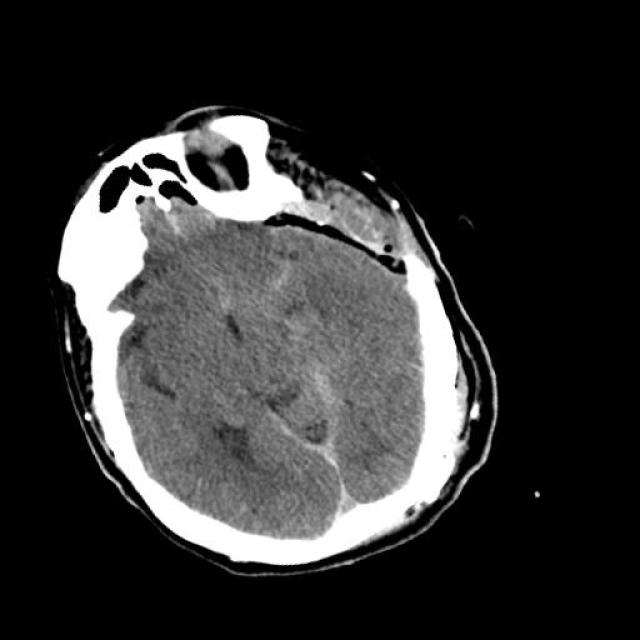Subdural: (253, 362, 407, 546)
